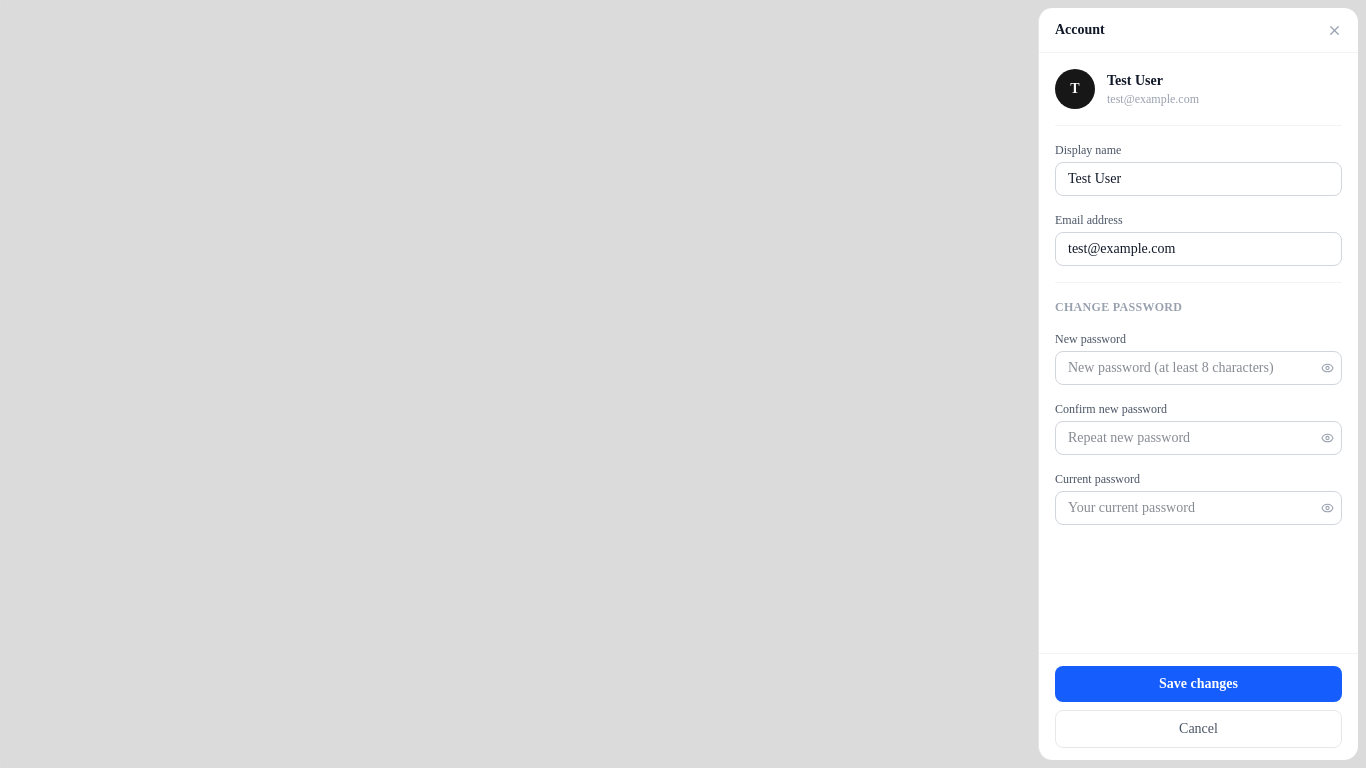
AccountSheet › shows inline error when email is already taken (409)
Replace the text in the field showing "test@example.com" below "Email address" with "taken@example.com" at (1198, 249), box [1055,232,1342,266]
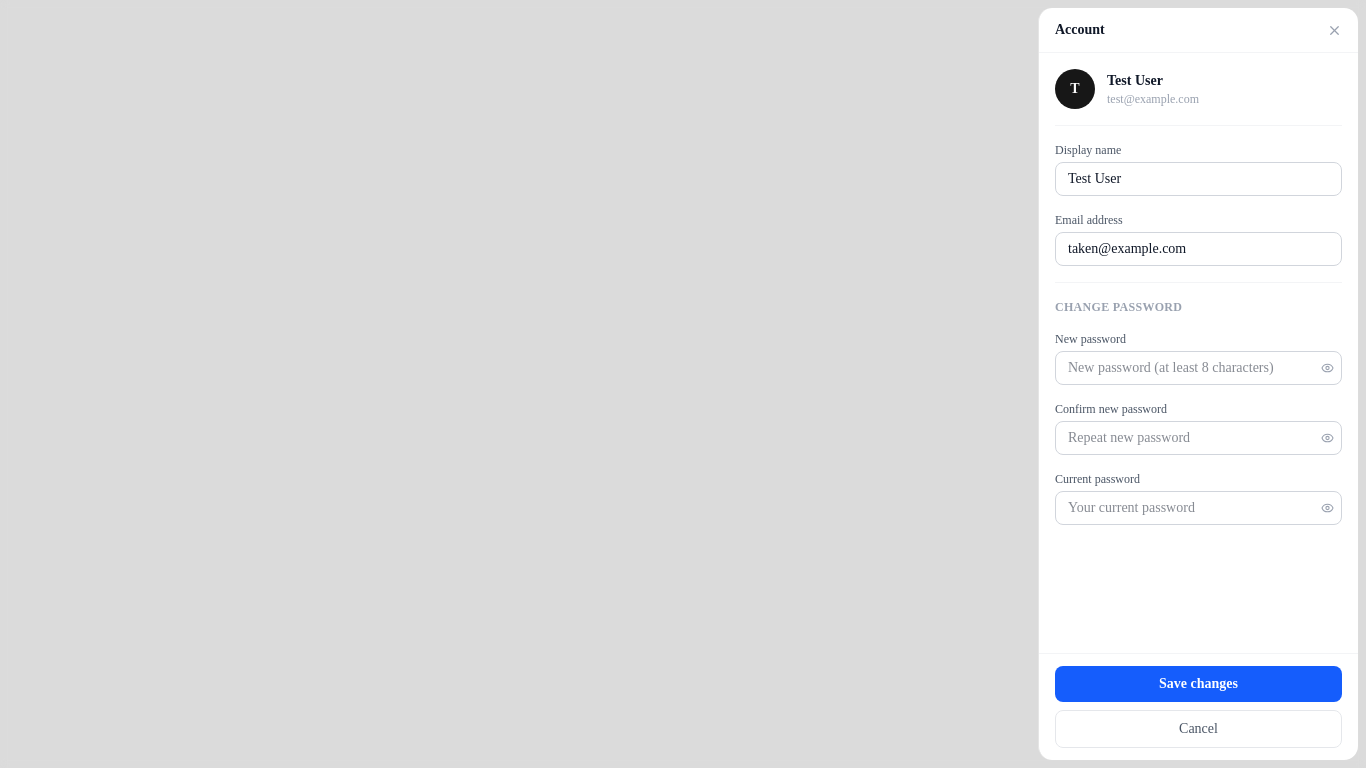
Click the button "Save changes" at (1198, 684), box [1055,666,1342,702]
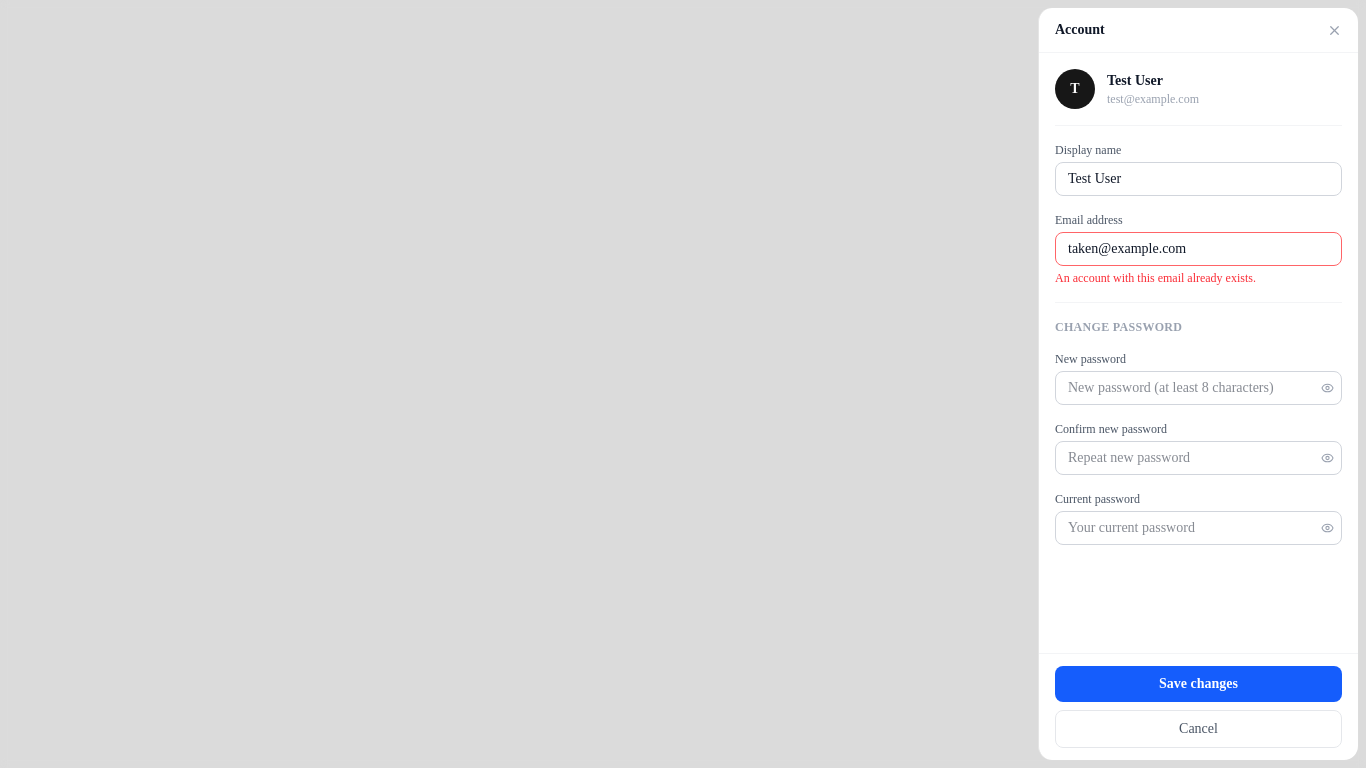
Now the text "An account with this email already exists." is shown, box [1055,271,1256,285]
